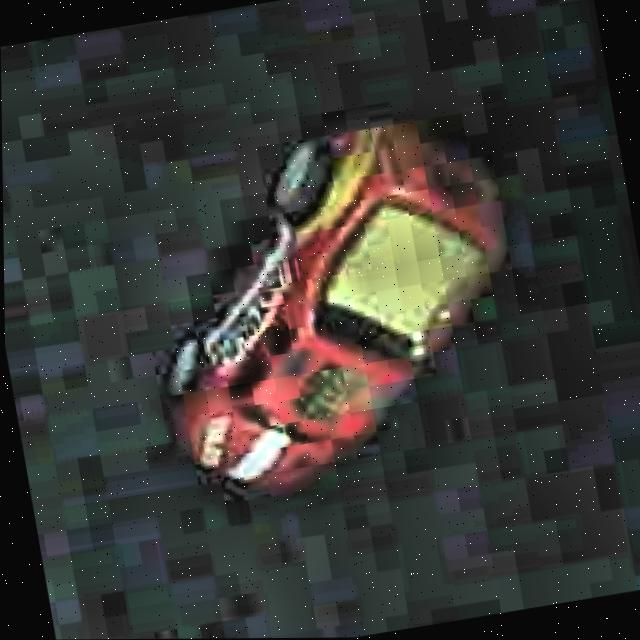car: (110, 90, 550, 519)
